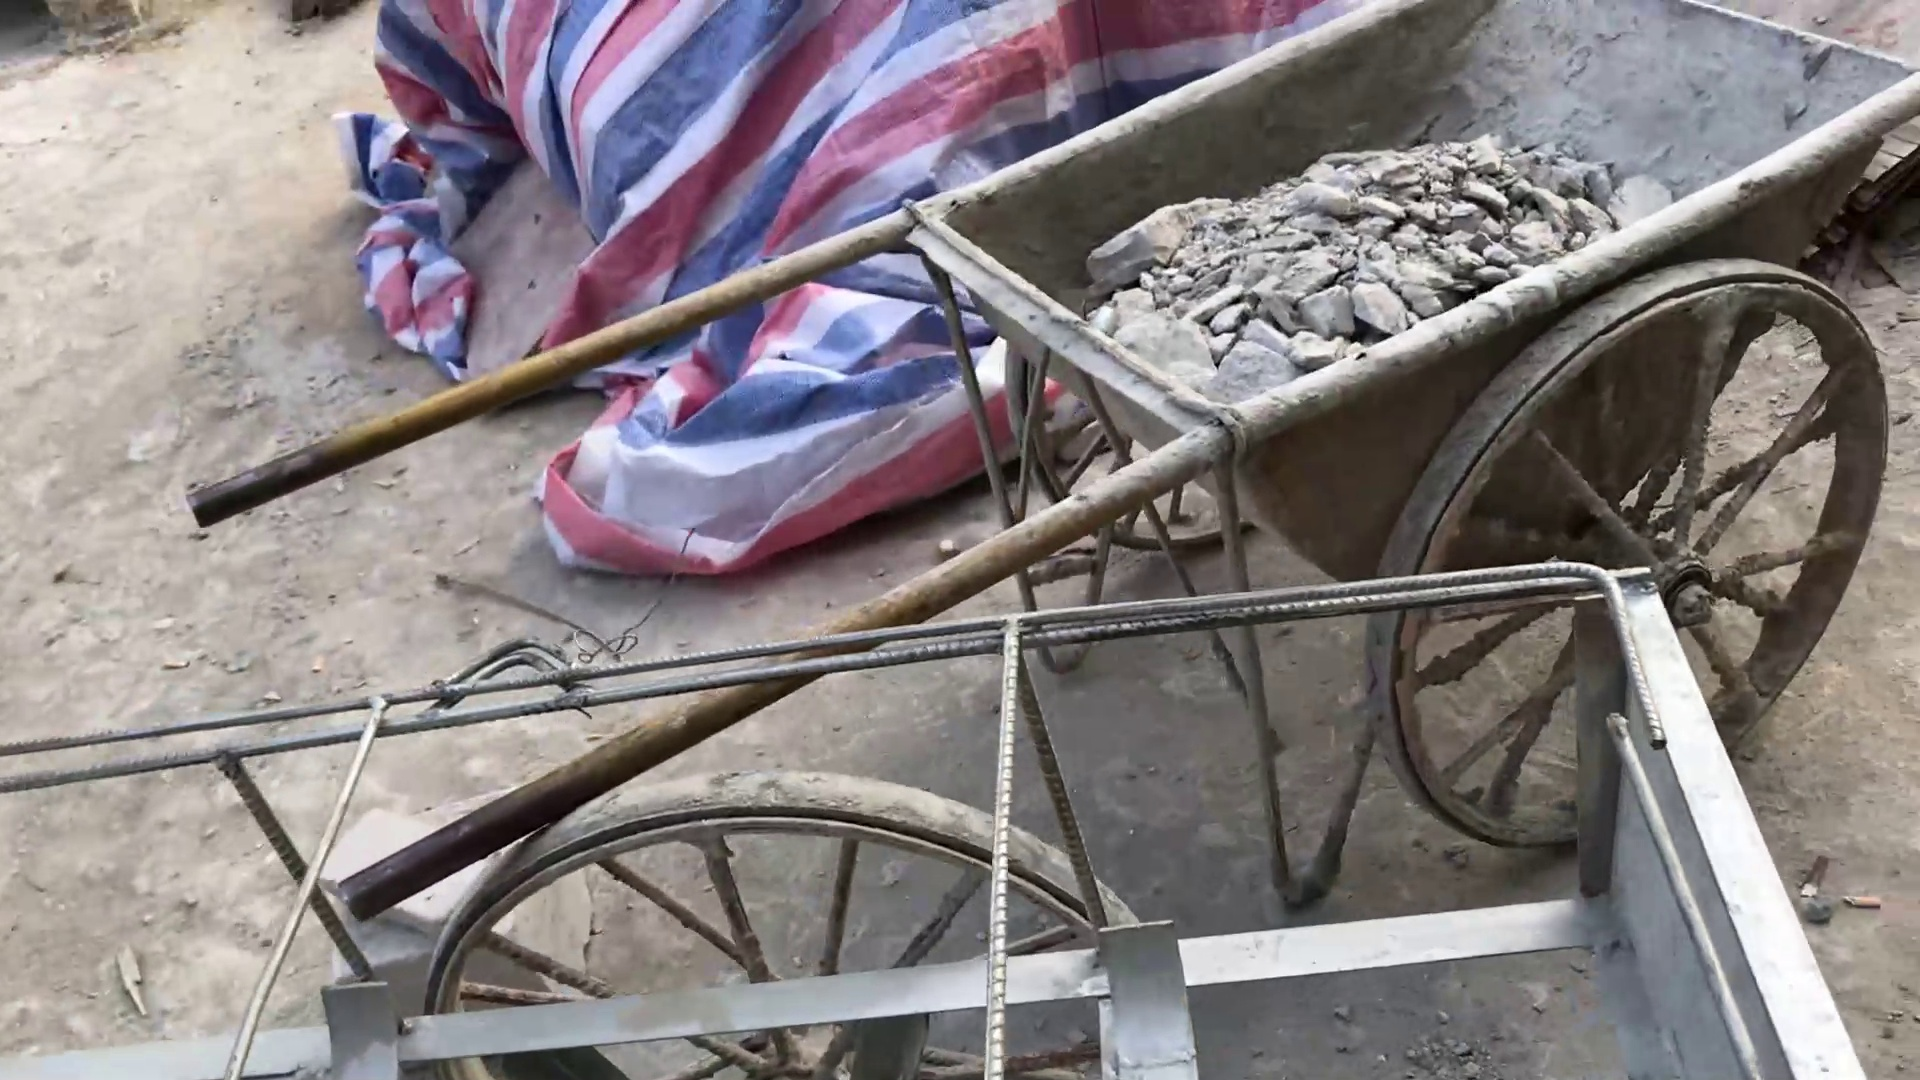handcart: (248, 7, 1917, 837), (51, 593, 1861, 1064)
